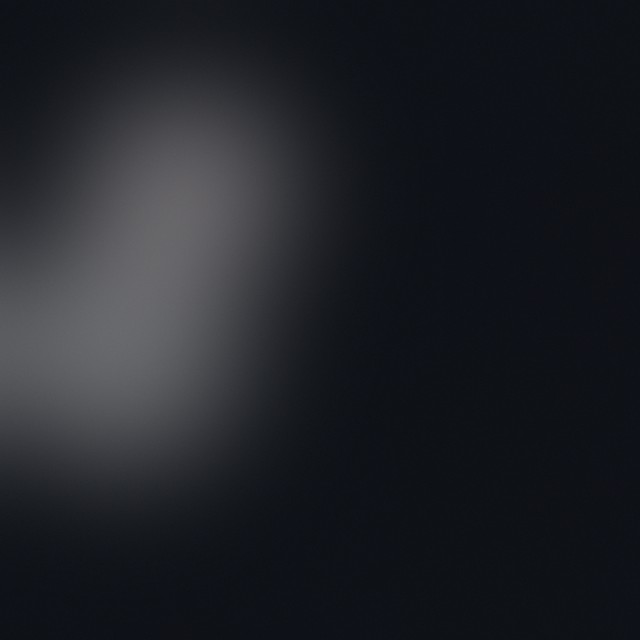smoke: (99, 146, 335, 382)
